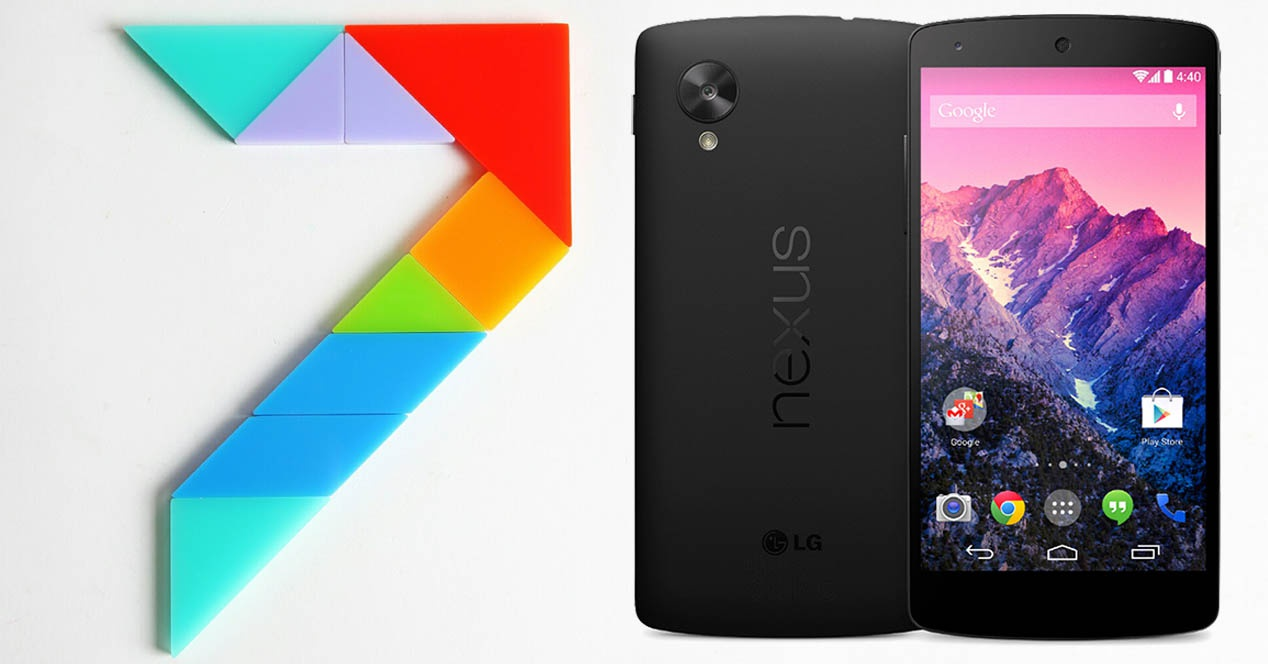smartphone: (904, 12, 1222, 640), (631, 15, 923, 640)
